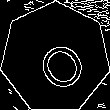O_NW: (24, 25, 87, 91)
